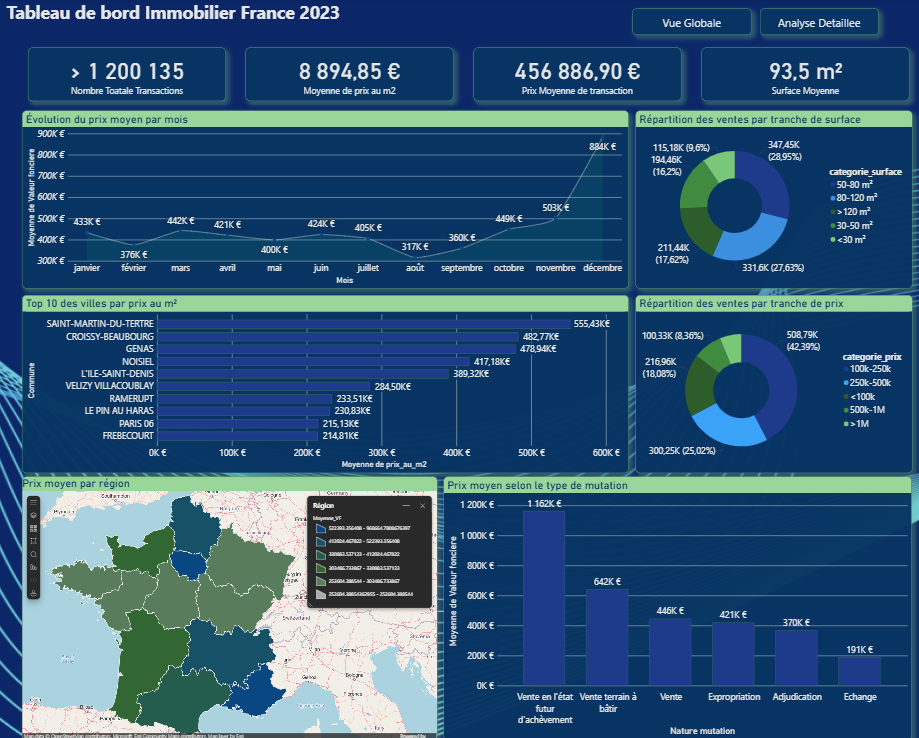

What the dashboard file says about the page in this screenshot:
{"tool":"powerbi","page":{"name":"Page 1","canvas":[2300,1800],"ordinal":0},"visuals":[{"type":"card","fields":{"Values":["transactions.nbr_toatale_Transactions_"]},"box":[96,120,480,130],"z":0},{"type":"card","fields":{"Values":["Avg(public transactions.Valeur fonciere)"]},"box":[1176,120,504,130],"z":1000},{"type":"card","fields":{"Values":["Avg(public transactions.prix_au_m2)"]},"box":[624,120,504,130],"z":2000},{"type":"card","fields":{"Values":["transactions.Surface_Moyenne"]},"box":[1728,120,504,130],"z":3000},{"type":"lineChart","title":"Évolution du prix moyen par mois","fields":{"Y":["Avg(public transactions.Valeur fonciere)"],"Category":["public transactions.Date mutation.Variation.Hiérarchie de dates.Mois"]},"box":[80,272,1472,432],"z":4000},{"type":"esriVisual","title":"Prix moyen par région","fields":{"Location":["transactions.Région"],"Color":["transactions.Moyenne_VF"]},"box":[80,1160,1008,640],"z":5000},{"type":"clusteredBarChart","title":"Top 10 des villes par prix au m²","fields":{"Category":["transactions.Commune"],"Y":["Avg(transactions.prix_au_m2)"]},"box":[80,720,1472,432],"z":6000},{"type":"textbox","box":[24,0,984,72],"z":7000},{"type":"donutChart","title":"Répartition des ventes par tranche de prix","fields":{"Category":["transactions.categorie_prix"],"Y":["CountNonNull(transactions.Valeur fonciere)"]},"box":[1568,720,672,432],"z":8000},{"type":"columnChart","title":"Prix moyen selon le type de mutation","fields":{"Category":["transactions.Nature mutation"],"Y":["Avg(transactions.Valeur fonciere)"]},"box":[1104,1160,1136,640],"z":9000},{"type":"donutChart","title":"Répartition des ventes par tranche de surface","fields":{"Category":["transactions.categorie_surface"],"Y":["CountNonNull(transactions.Valeur fonciere)"]},"box":[1568,272,672,432],"z":10000},{"type":"actionButton","title":"Vue Globale","box":[1560,24,288,64],"z":11000},{"type":"actionButton","title":"Analyse Detaillee","box":[1872,24,288,64],"z":12000}]}

Visuals, with their boxes in screenshot pixels (x1, y1, x2, y2), scaled from the page's 2300x1800 canvas onto the 919x738 screenshot:
card - transactions.nbr_toatale_Transactions_: l=38, t=49, r=230, b=102
card - Avg(public transactions.Valeur fonciere): l=470, t=49, r=671, b=102
card - Avg(public transactions.prix_au_m2): l=249, t=49, r=451, b=102
card - transactions.Surface_Moyenne: l=690, t=49, r=892, b=102
"Évolution du prix moyen par mois" lineChart: l=32, t=112, r=620, b=289
"Prix moyen par région" esriVisual: l=32, t=476, r=435, b=737
"Top 10 des villes par prix au m²" clusteredBarChart: l=32, t=295, r=620, b=472
textbox: l=10, t=0, r=403, b=30
"Répartition des ventes par tranche de prix" donutChart: l=627, t=295, r=895, b=472
"Prix moyen selon le type de mutation" columnChart: l=441, t=476, r=895, b=737
"Répartition des ventes par tranche de surface" donutChart: l=627, t=112, r=895, b=289
"Vue Globale" actionButton: l=623, t=10, r=738, b=36
"Analyse Detaillee" actionButton: l=748, t=10, r=863, b=36
